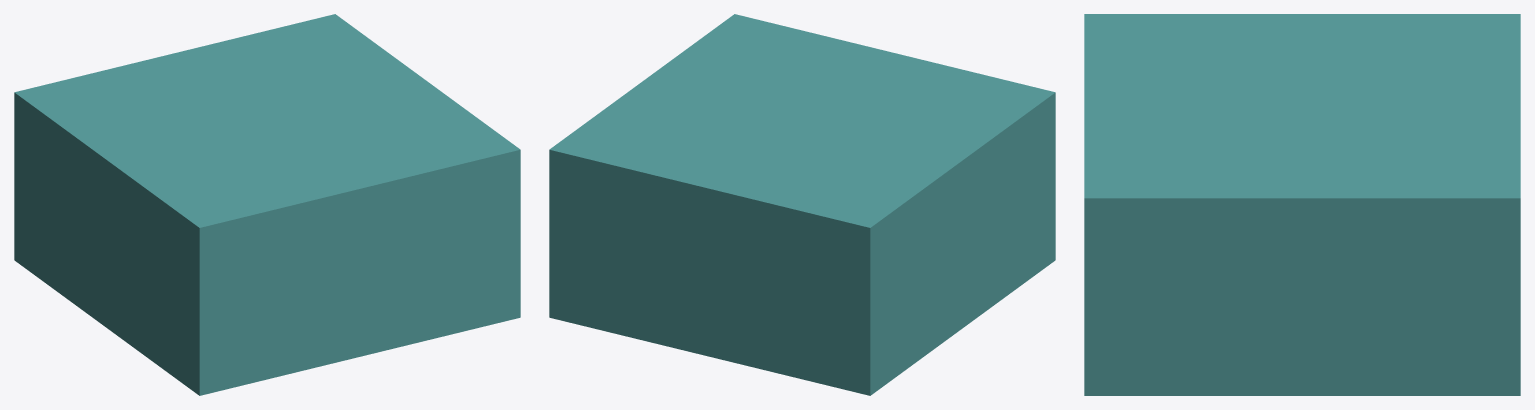
Rendered from OneWay_Half.glb.
The picture shows the model from 3 angles, left to right: view 1: azimuth 30°, elevation 25°; view 2: azimuth 150°, elevation 25°; view 3: azimuth 270°, elevation 25°; orthographic projection. The views are drawn at different scales.
Visible parts, largest first — view 1: OneWay_Half_body; view 2: OneWay_Half_body; view 3: OneWay_Half_body.
Part boxes in pixels (x1,y1,x2,y2): OneWay_Half_body: [14, 14, 520, 395]; OneWay_Half_body: [549, 14, 1055, 395]; OneWay_Half_body: [1084, 14, 1520, 395].
Bounding box in the file's own units: 1 × 0.5 × 1.
